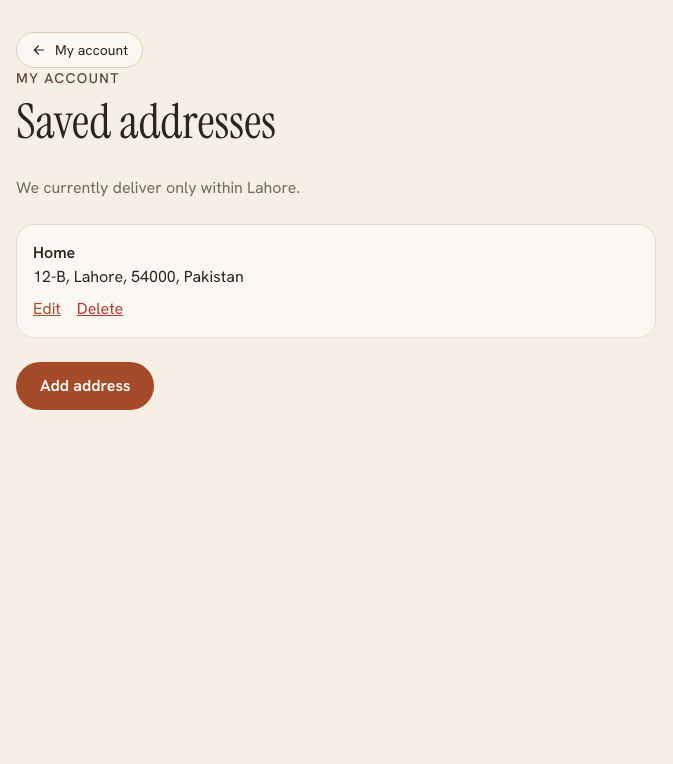
Test case: adds an address, sending blank optional fields as null
The width and height of the screenshot is (673, 764).
Expected: the text "Home" is shown, [33,242,75,263]
Click the button "Add address": coordinates (85, 386) [16,362,154,410]
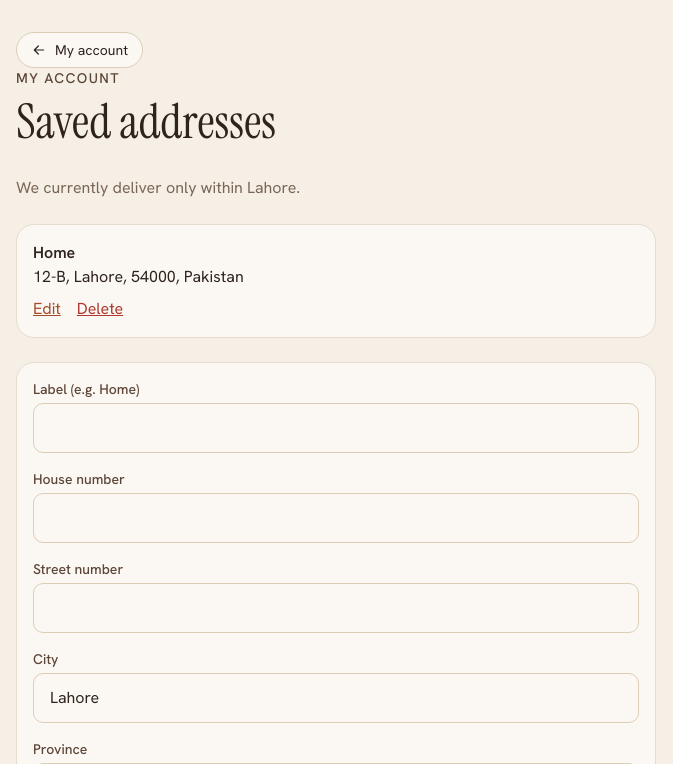
In the field labelled "Label (e.g. Home)": coordinates (336, 428) [33,403,639,453], type "Office"
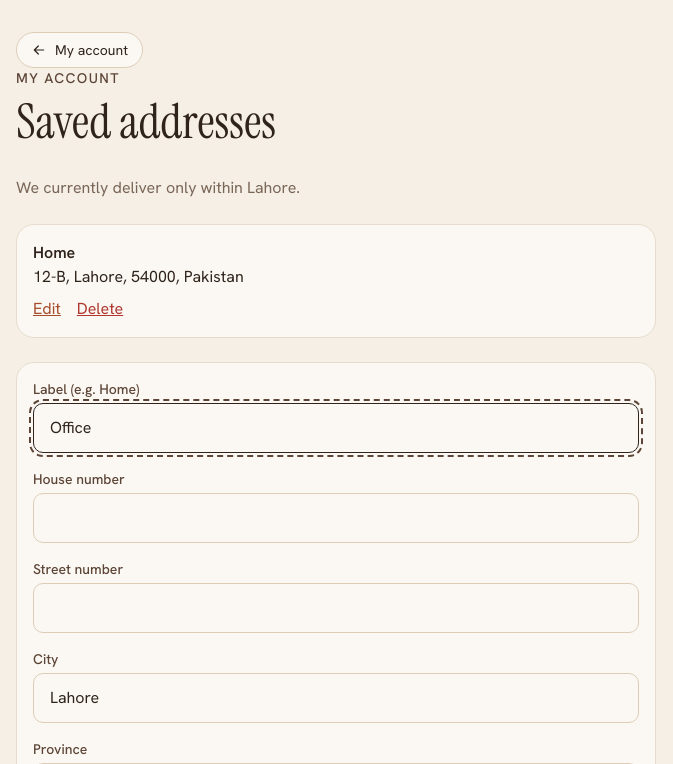
In the field labelled "House number": coordinates (336, 518) [33,493,639,543], type "7"
(page scrolled)
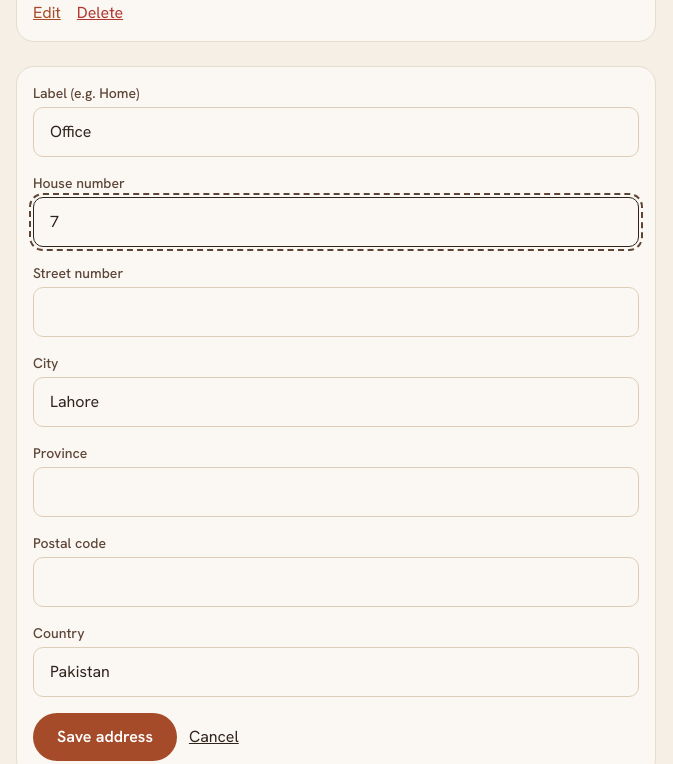
In the field labelled "Postal code": coordinates (336, 582) [33,557,639,607], type "54000"
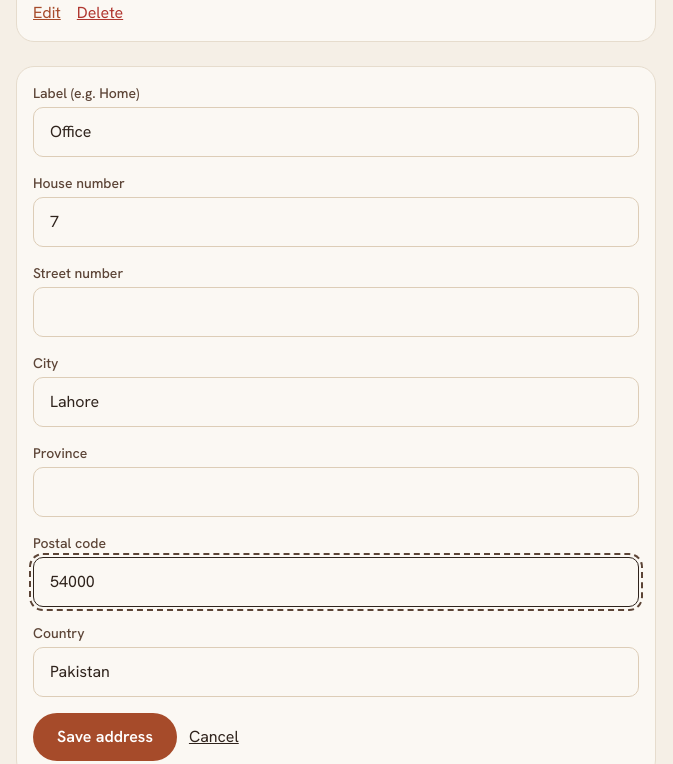
Click the button "Save address": coordinates (105, 737) [33,713,177,761]
(page scrolled)
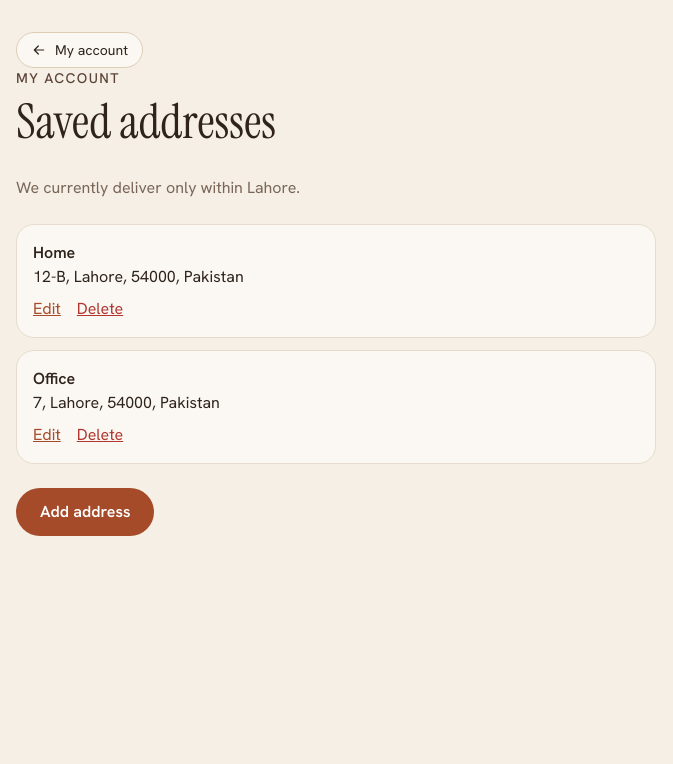
Now the text "Office" is shown, box [33,368,75,389]
